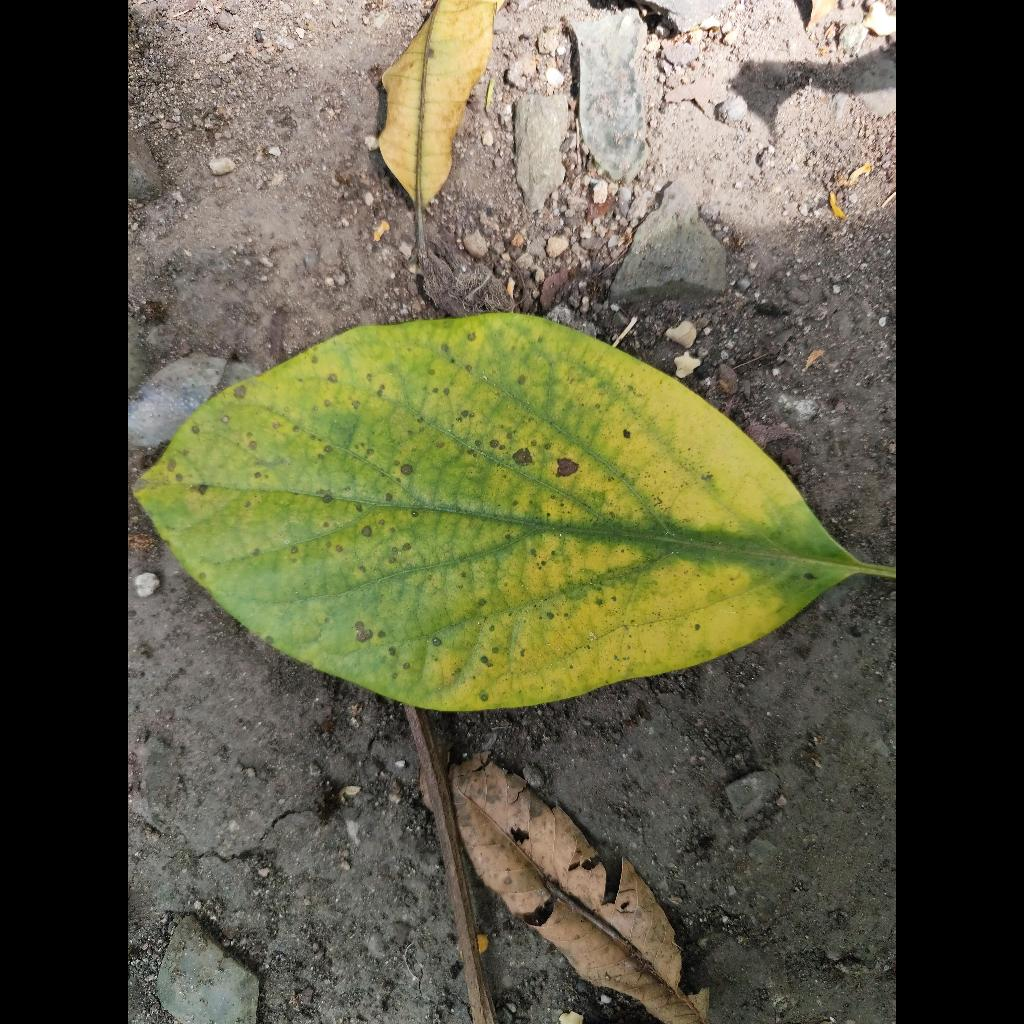deficiencia_nutricional: (135, 314, 896, 711)
